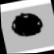correct: (6, 8, 47, 41)
